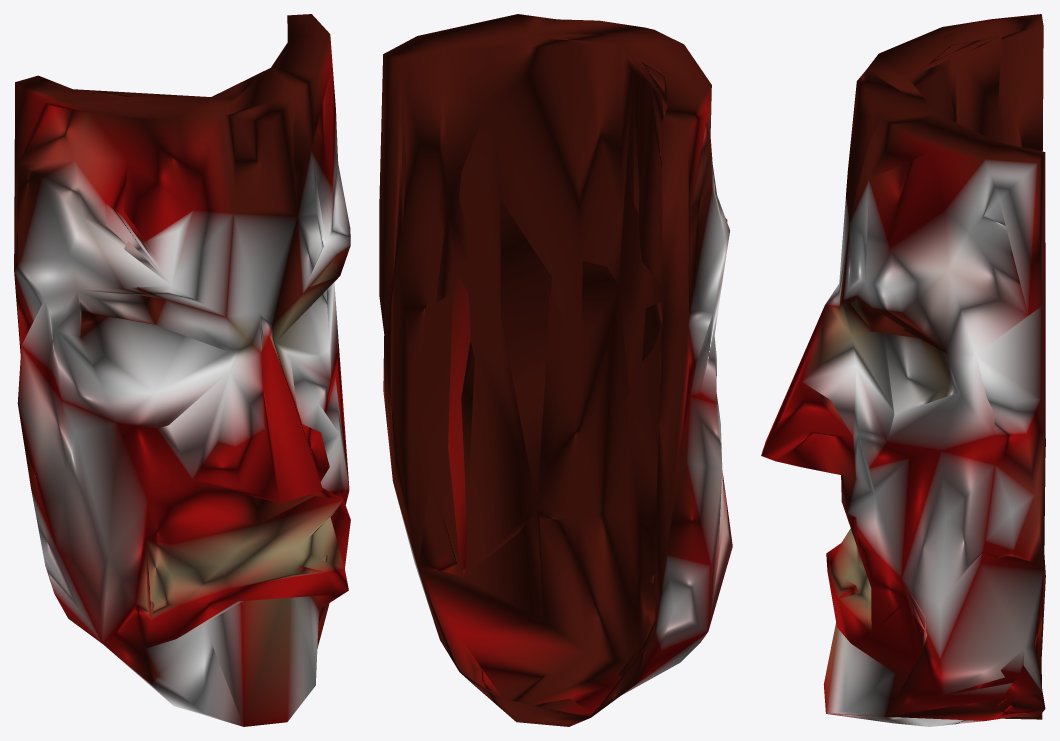
Rendered from gen3d-tribal-mask-lod1.glb.
3 renders of one model, left to right at view 1: azimuth 30°, elevation 25°; view 2: azimuth 150°, elevation 25°; view 3: azimuth 270°, elevation 25°, orthographic. The views are drawn at different scales.
Parts seen in each view (by area): view 1: part_0; view 2: part_0; view 3: part_0.
Part boxes in pixels (x1,y1,x2,y2): part_0: (14,14,350,726); part_0: (379,14,732,726); part_0: (761,14,1045,726).
Size of the model in its own units: 0.5017 by 0.9871 by 0.4059.
